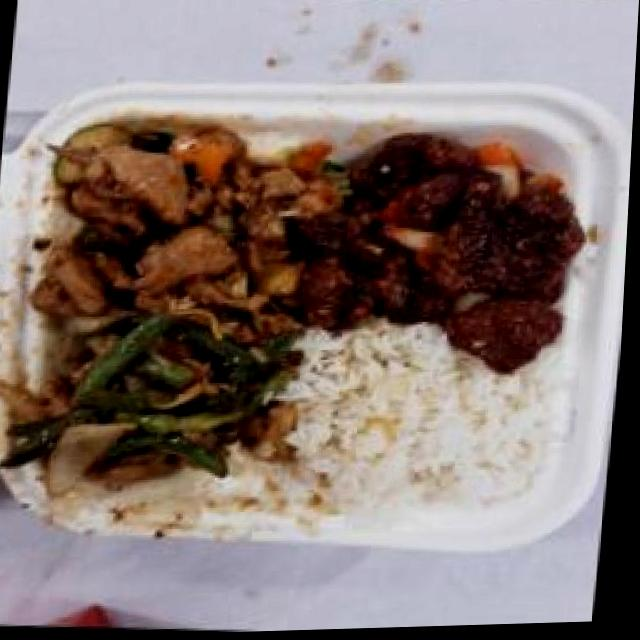Beijing Beef: (299, 121, 602, 391)
Kung Pao Chicken: (31, 105, 328, 337)
String Bean Chicken Breast: (4, 300, 300, 504)
White Steamed Rice: (278, 335, 551, 526)
